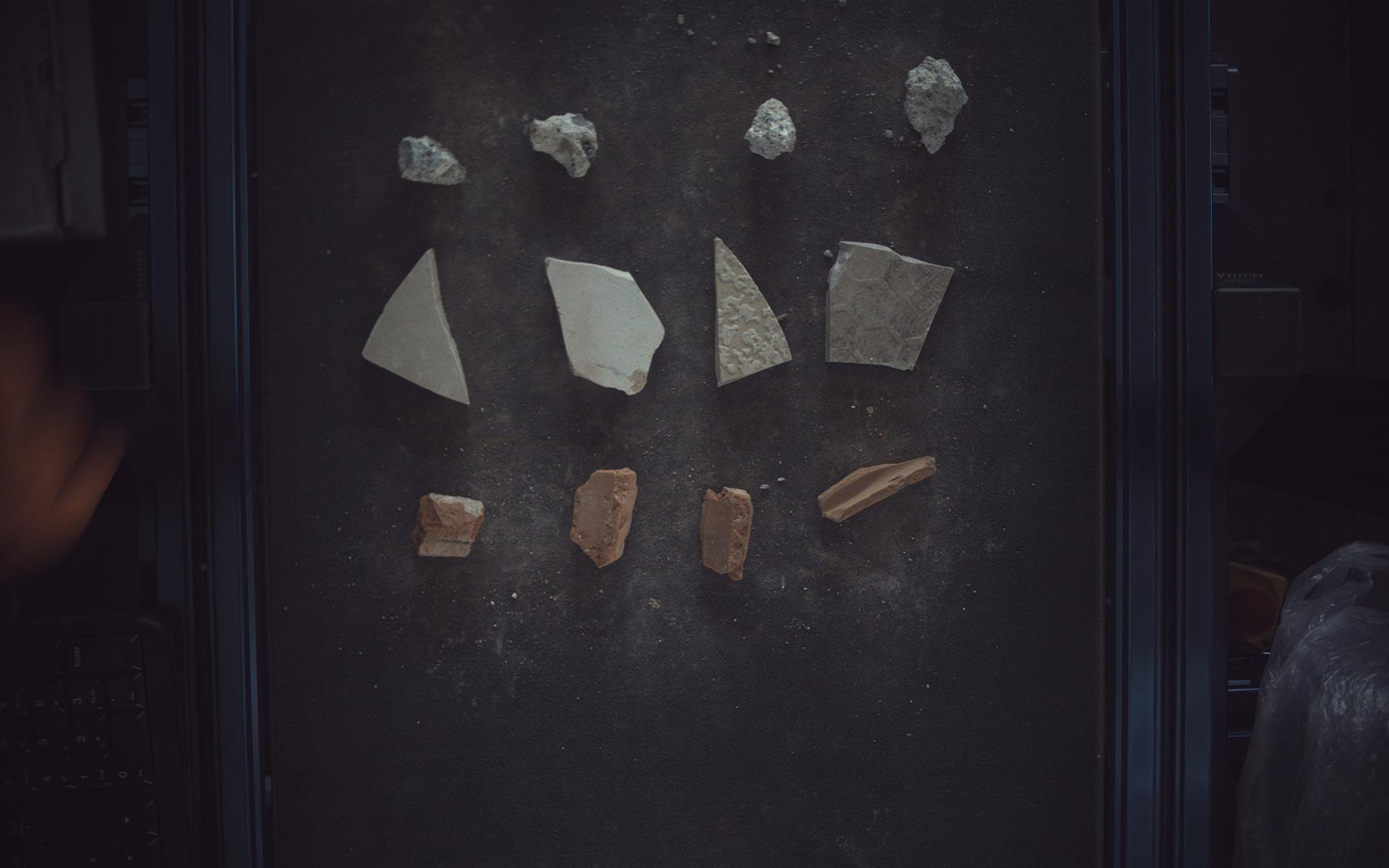brick: (820, 456, 938, 523), (571, 468, 639, 569), (701, 488, 755, 582), (413, 493, 483, 558)
concrete: (906, 55, 970, 153), (527, 112, 598, 177), (398, 135, 467, 184), (745, 97, 797, 158)
tile: (362, 247, 470, 404), (828, 241, 956, 370), (547, 257, 666, 395), (715, 237, 794, 386)
